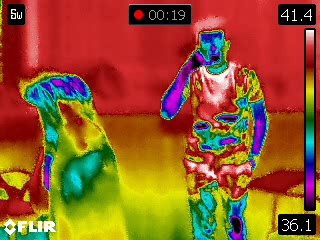human: (159, 17, 273, 240), (19, 66, 123, 220)
